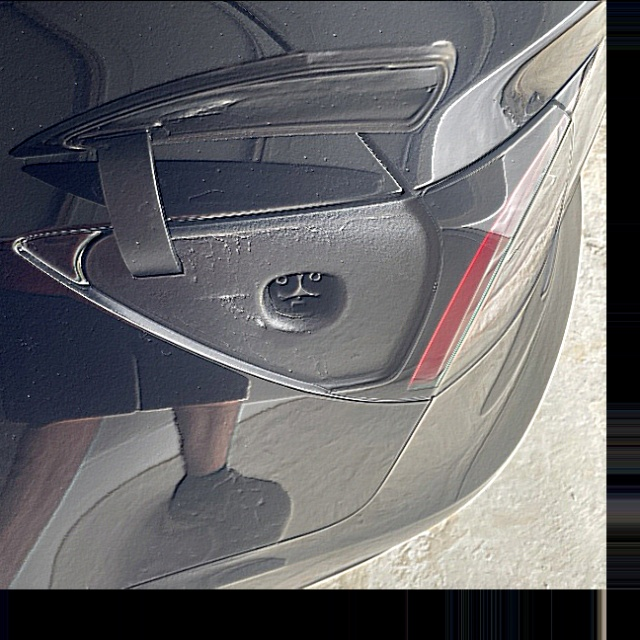port: (259, 272, 348, 333)
